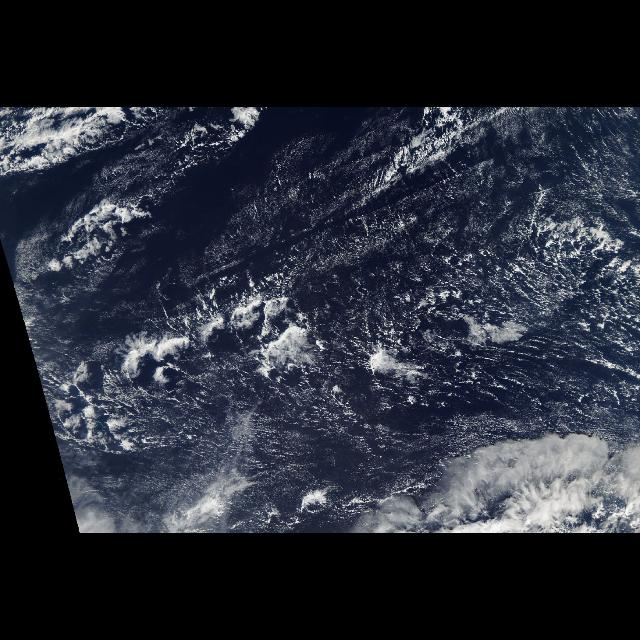Gravel: (335, 108, 637, 446), (54, 318, 318, 526)
Sugar: (147, 139, 506, 319)
